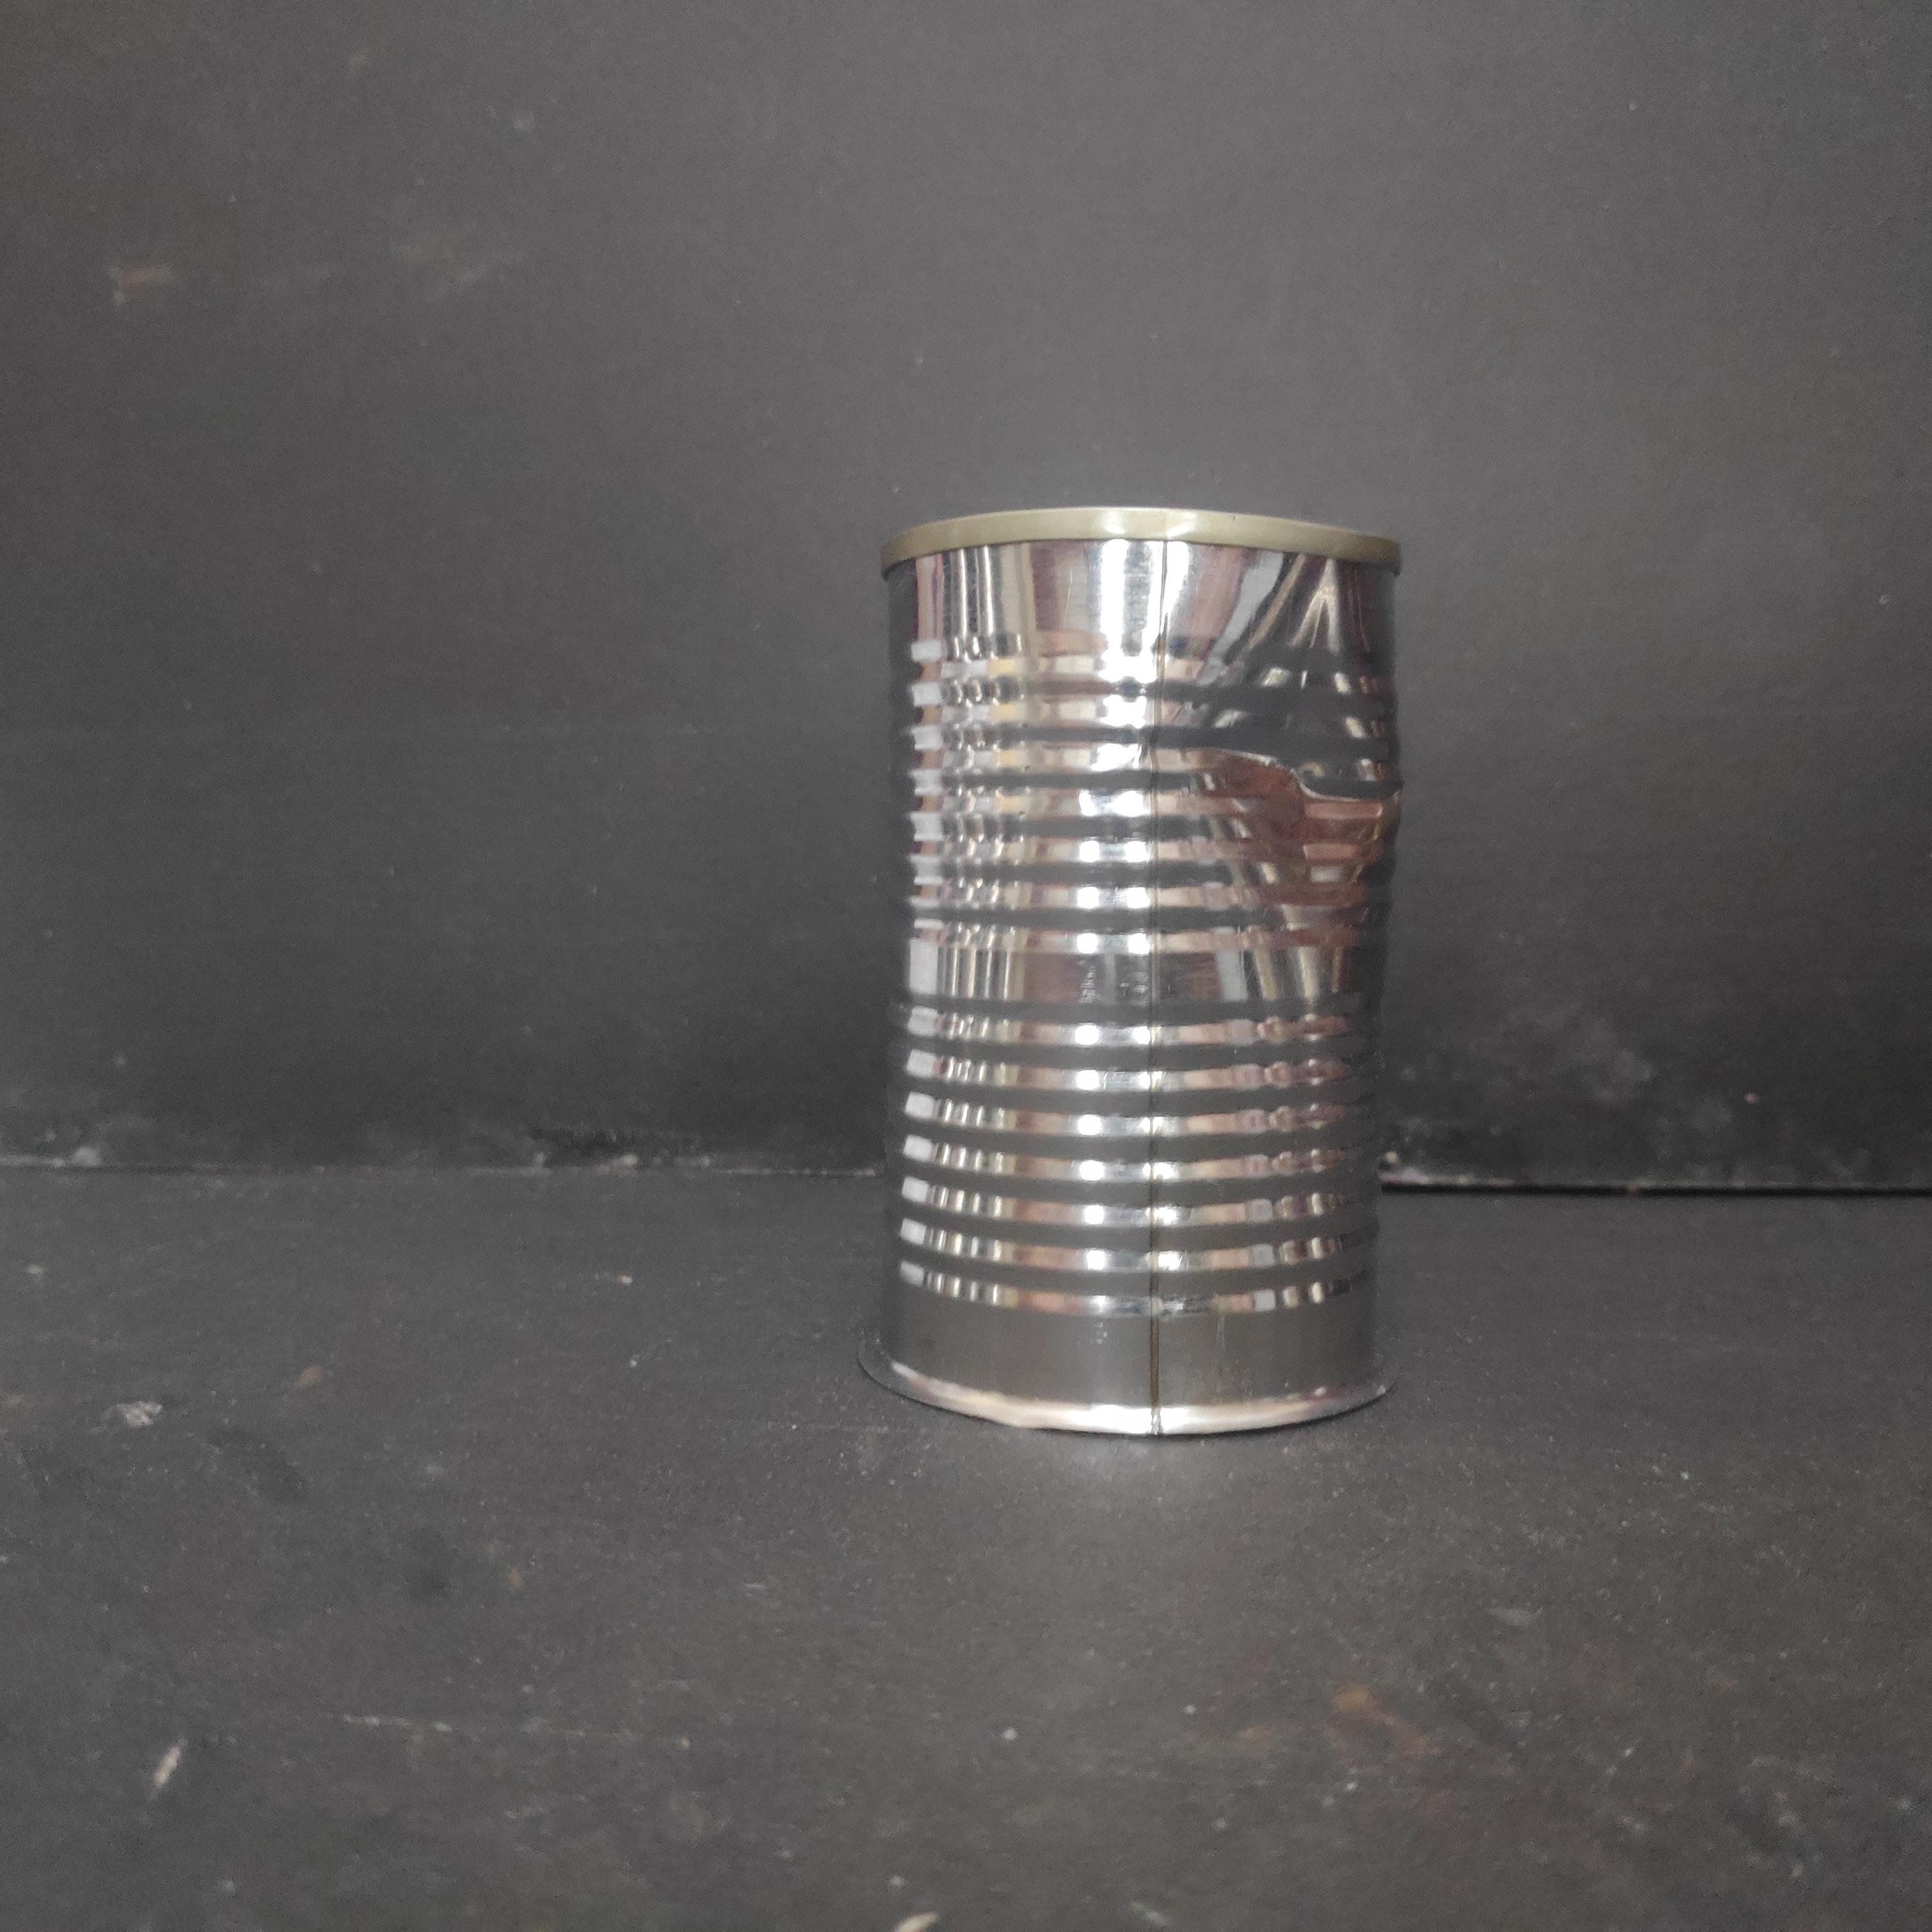Minor Defect: (867, 490, 1417, 1456)
